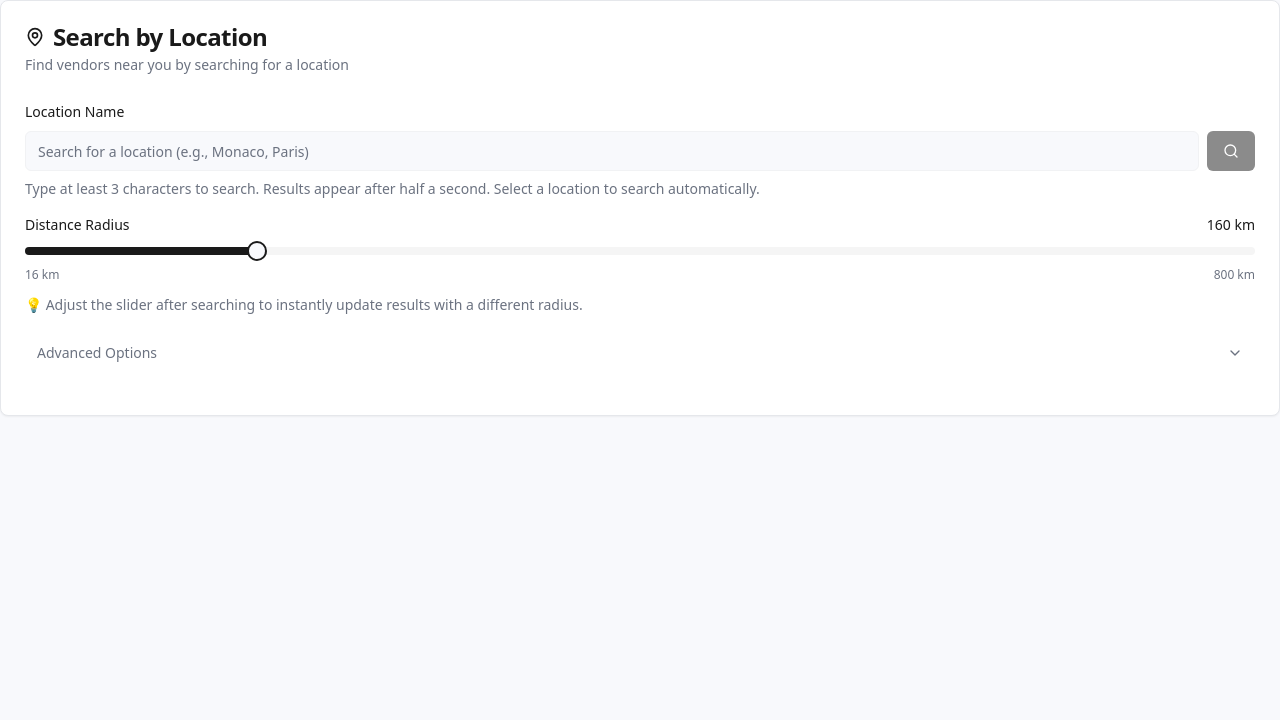
Test case: LocationSearchFilter › Advanced Mode - Manual Coordinate Input › should show coordinate inputs when advanced options is expanded
Click the button "Advanced Options". click: [97, 352]
box: [25,331,1255,375]
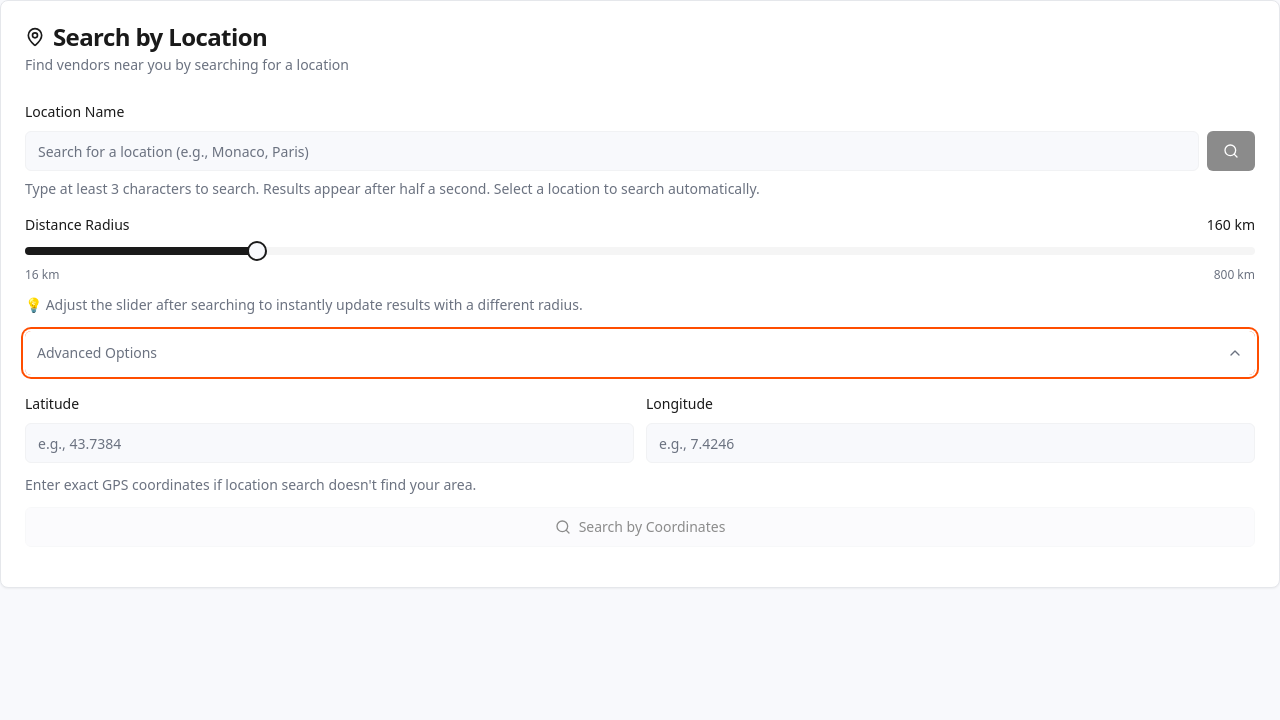
Check: the field labelled "Latitude" is shown, box [25,423,634,463]
Check: the field labelled "Longitude" is shown, box [646,423,1255,463]
